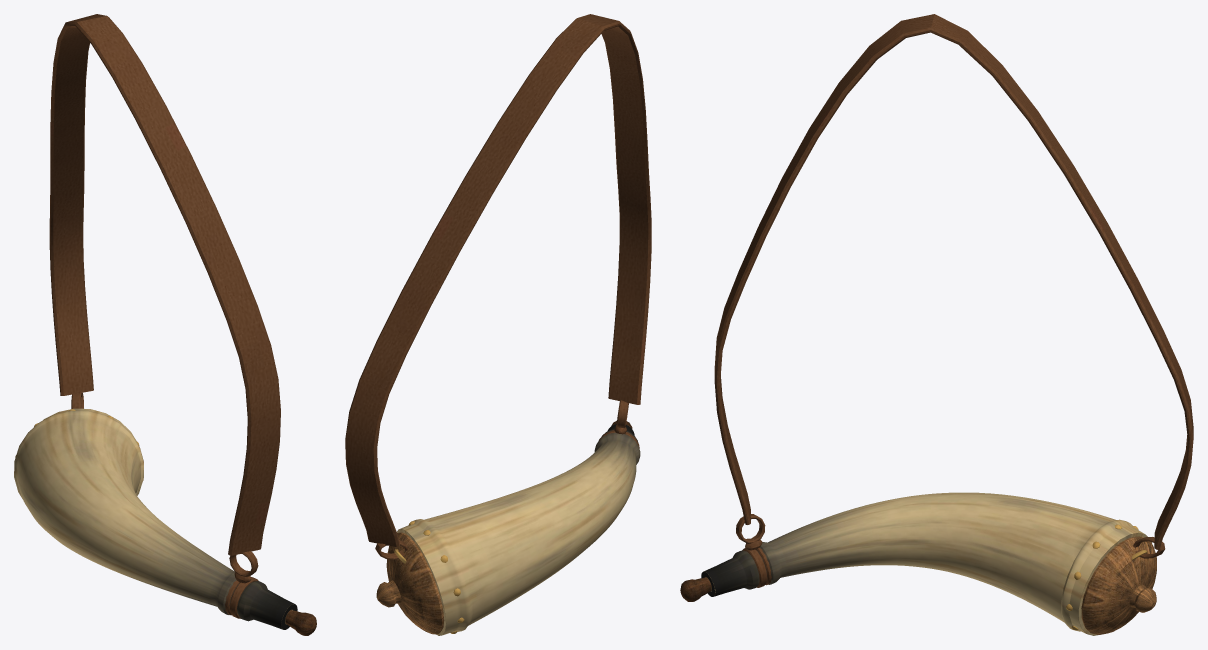
The model's file is powder_horn.glb.
3 views of the same model, side by side, from view 1: azimuth 30°, elevation 25°; view 2: azimuth 150°, elevation 25°; view 3: azimuth 270°, elevation 25° (orthographic). The views are drawn at different scales.
Parts seen in each view (by area): view 1: StrapPreview, PowderHorn; view 2: StrapPreview, PowderHorn; view 3: PowderHorn, StrapPreview.
Part boxes in pixels (left/top/right/bottom): StrapPreview: left=49, top=14, right=280, bottom=555; PowderHorn: left=14, top=391, right=316, bottom=635; StrapPreview: left=345, top=14, right=651, bottom=547; PowderHorn: left=375, top=400, right=640, bottom=635; PowderHorn: left=680, top=492, right=1165, bottom=635; StrapPreview: left=714, top=14, right=1193, bottom=549.
Size of the model in its own units: 0.0801 by 0.3107 by 0.2515.
5 materials, 5 textured.
